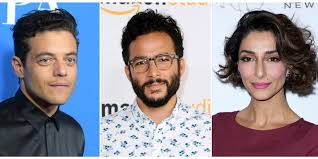middle_eastern_male: (121, 20, 187, 104), (20, 20, 82, 106)
